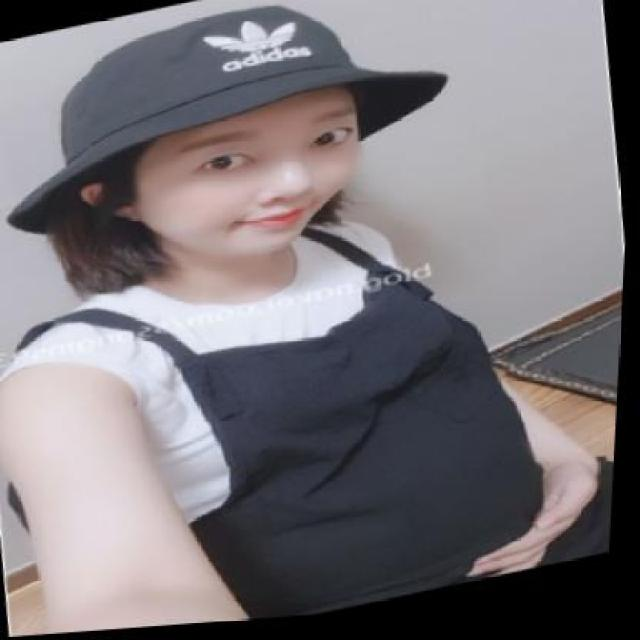hat: (0, 0, 468, 223)
